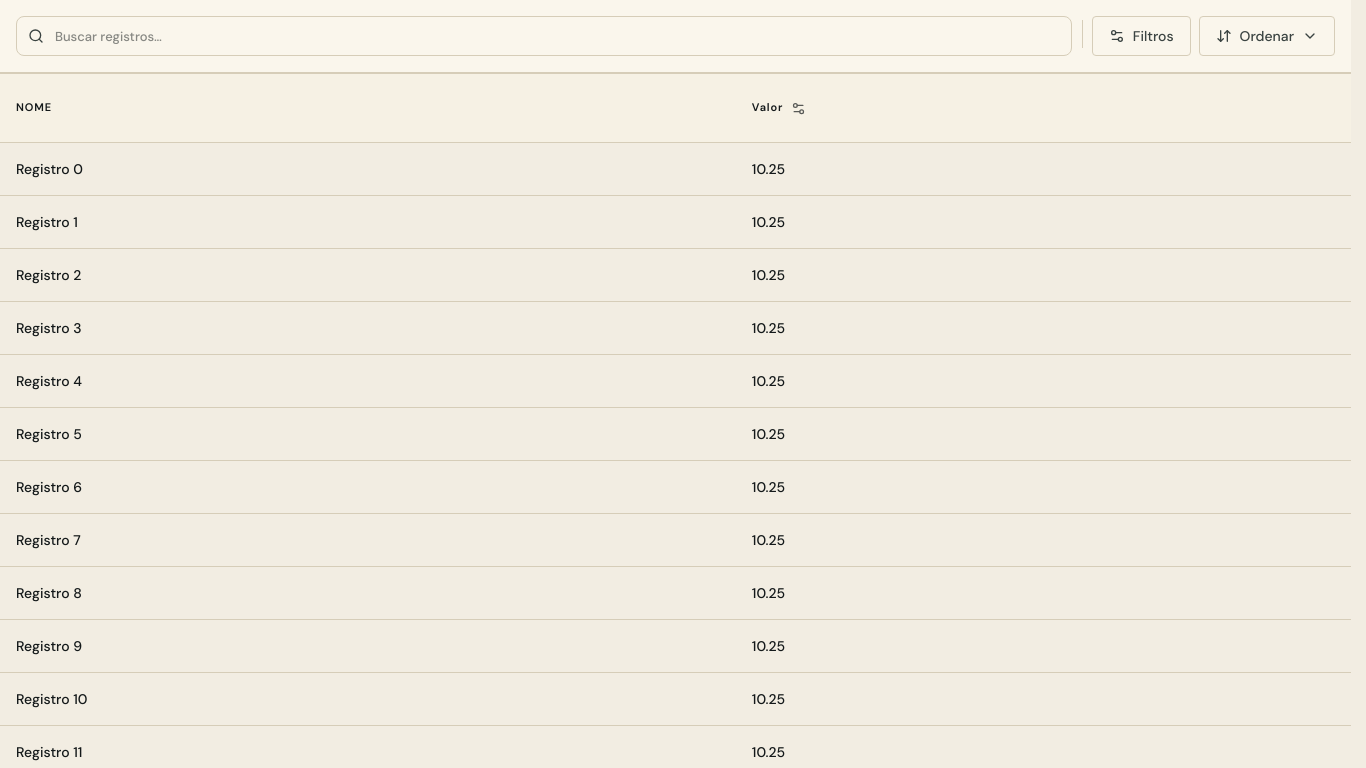
Test: bloqueia faixas inválidas no modal e não muda a consulta durante a correção
Click the button "Filtros": (1141, 36) [1092,16,1191,56]
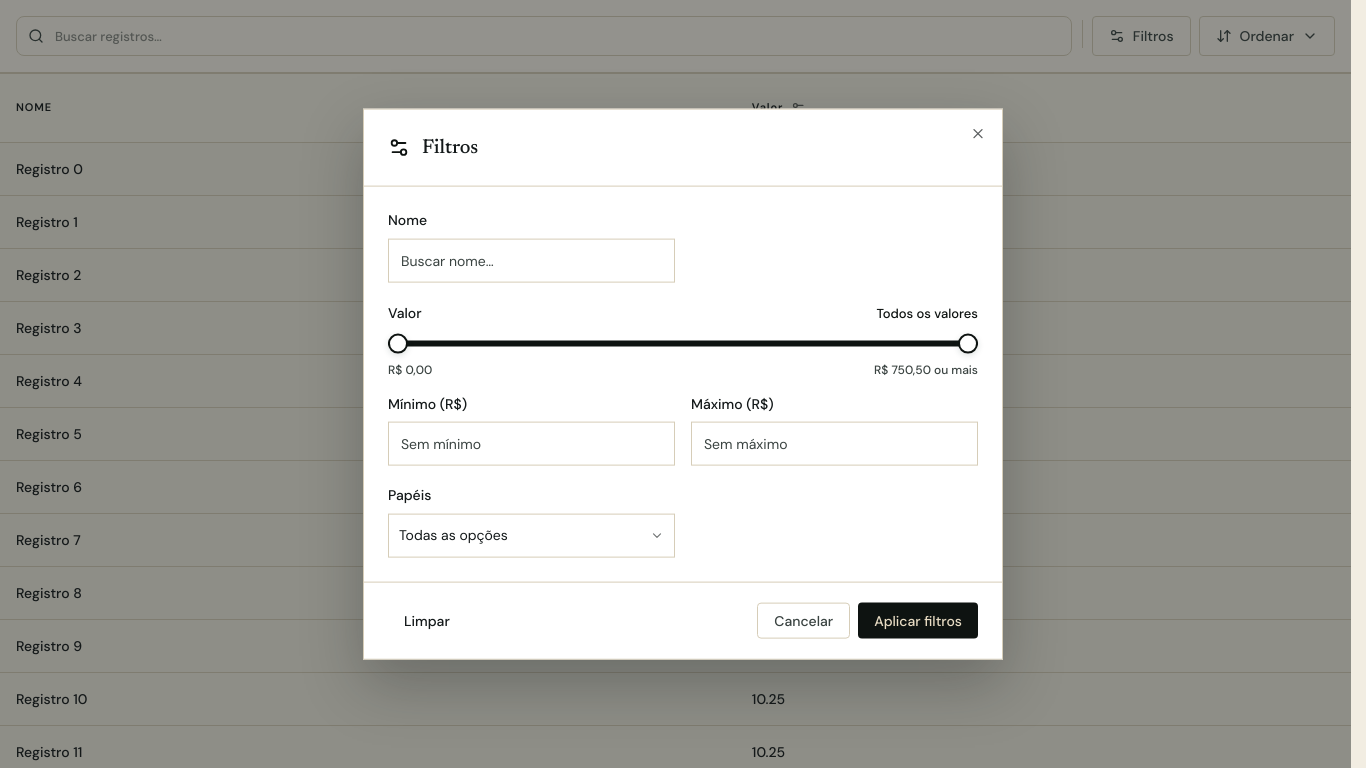
In the field named "Valor mínimo": (532, 444) [388,422,675,466], type "500"
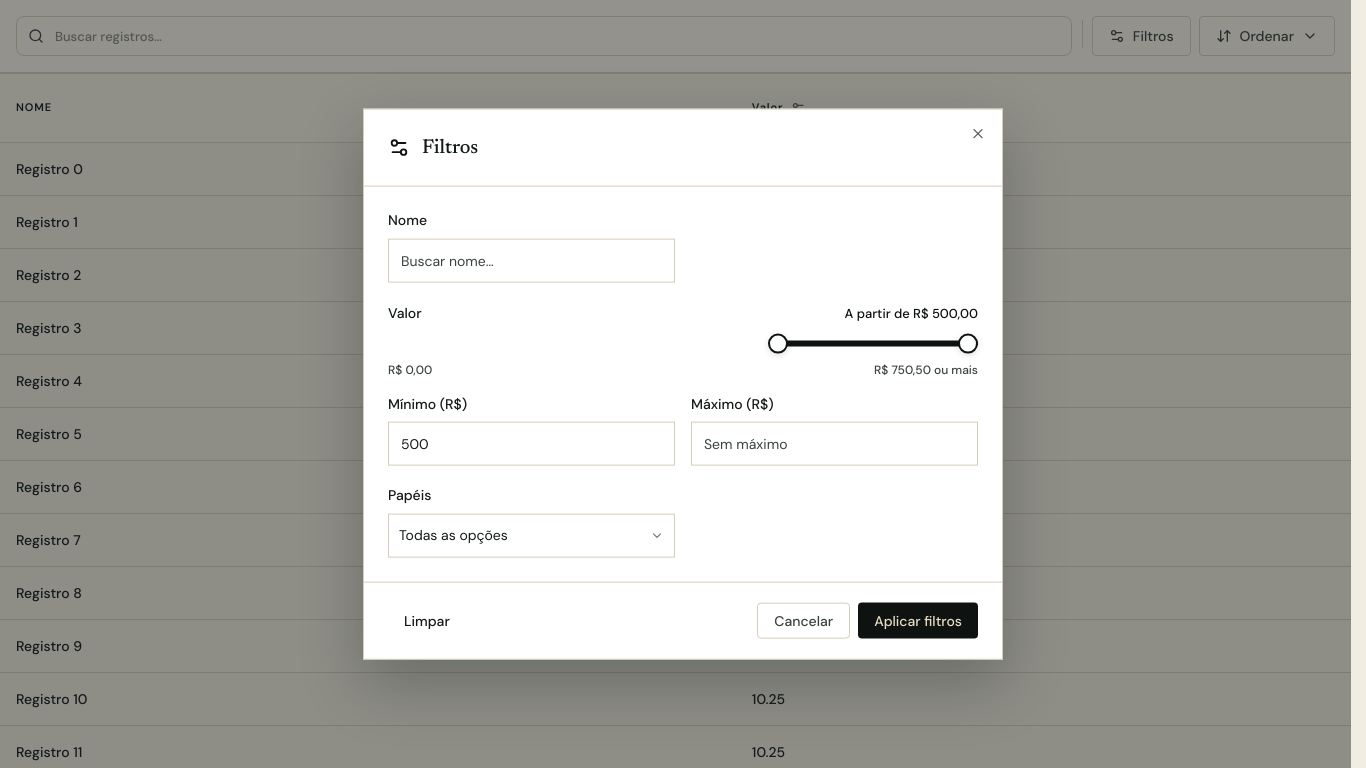
In the field named "Valor máximo": (834, 444) [691,422,978,466], type "100"
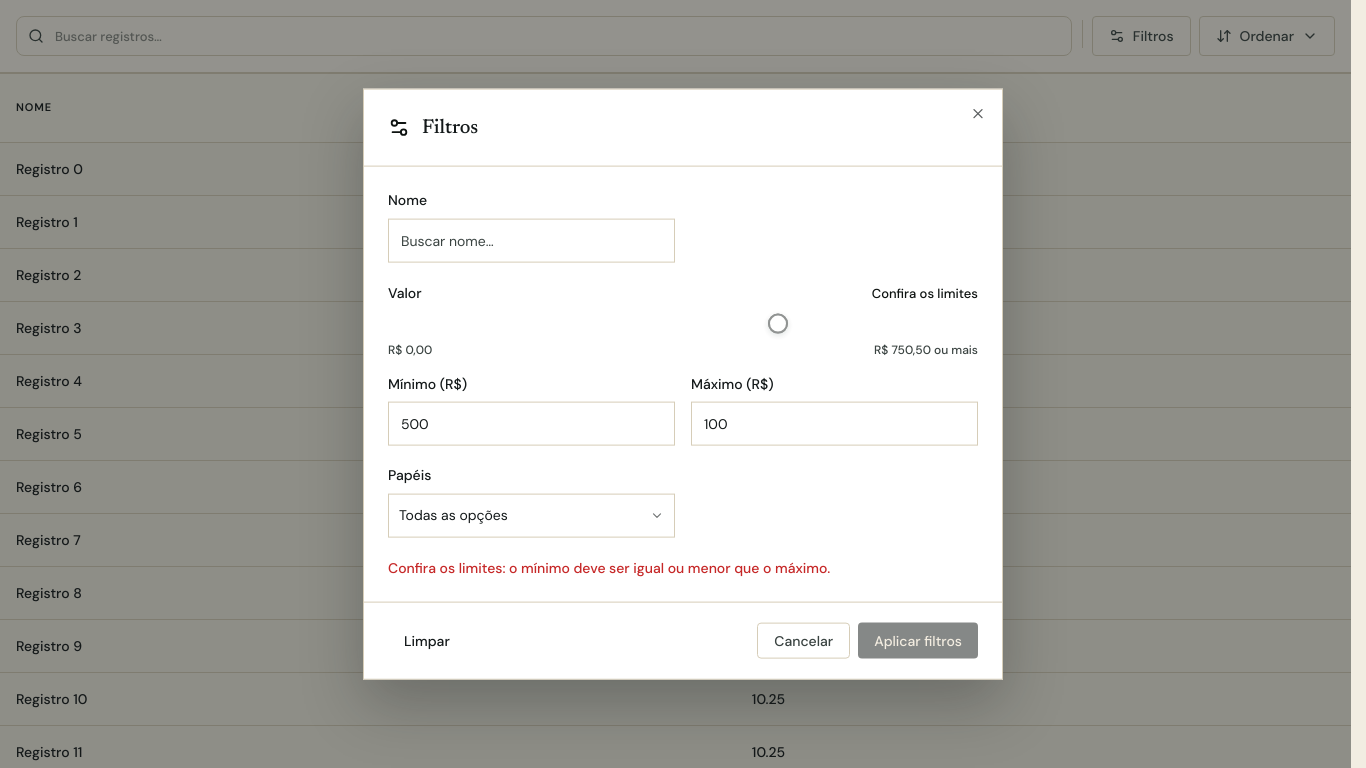
Check: the button "Aplicar filtros" is disabled, box [858,622,978,658]
Check: the message shows "mínimo", box [388,558,830,576]
